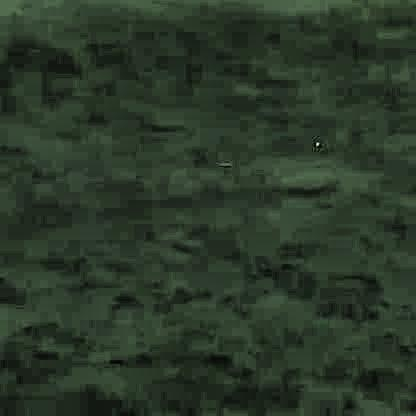golfball: (309, 140, 319, 147)
